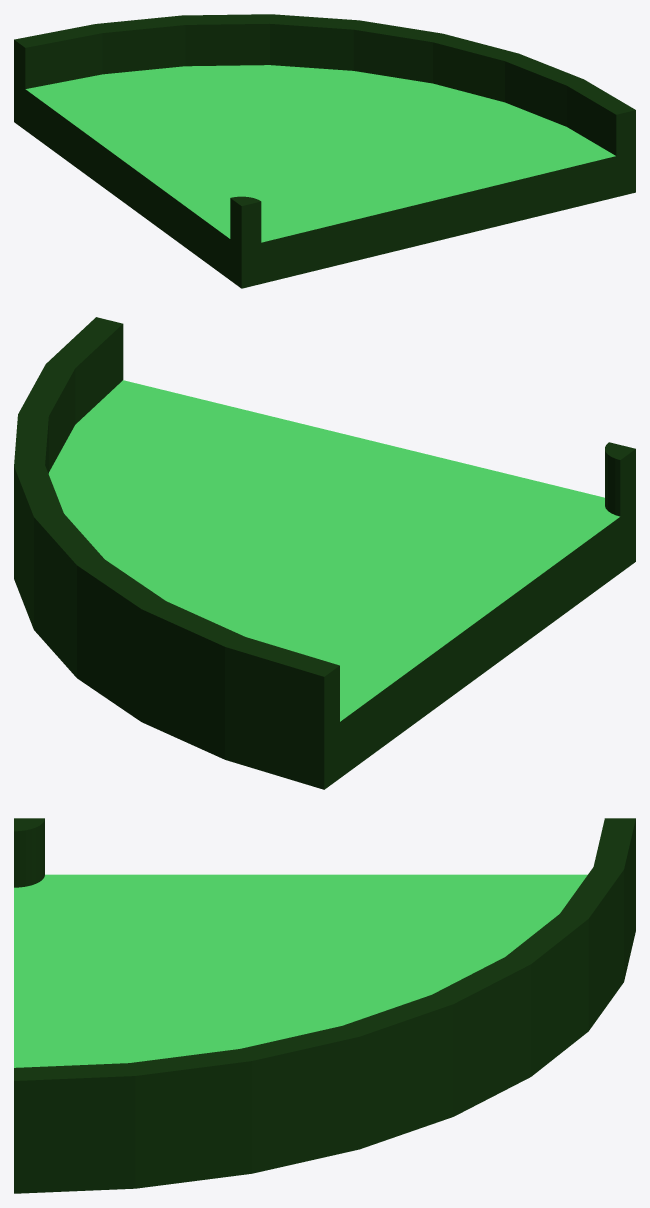
3 views of the same model, one above another, from view 1: azimuth 30°, elevation 25°; view 2: azimuth 150°, elevation 25°; view 3: azimuth 270°, elevation 25° (orthographic). The views are drawn at different scales.
Visible parts, largest first — view 1: MG Curve 1; view 2: MG Curve 1; view 3: MG Curve 1.
Boxes of the visible parts, <box> form: MG Curve 1: <box>14,14,635,288</box>; MG Curve 1: <box>14,317,635,789</box>; MG Curve 1: <box>14,818,635,1193</box>.
Bounding box in the file's own units: 200 × 40 × 200.
